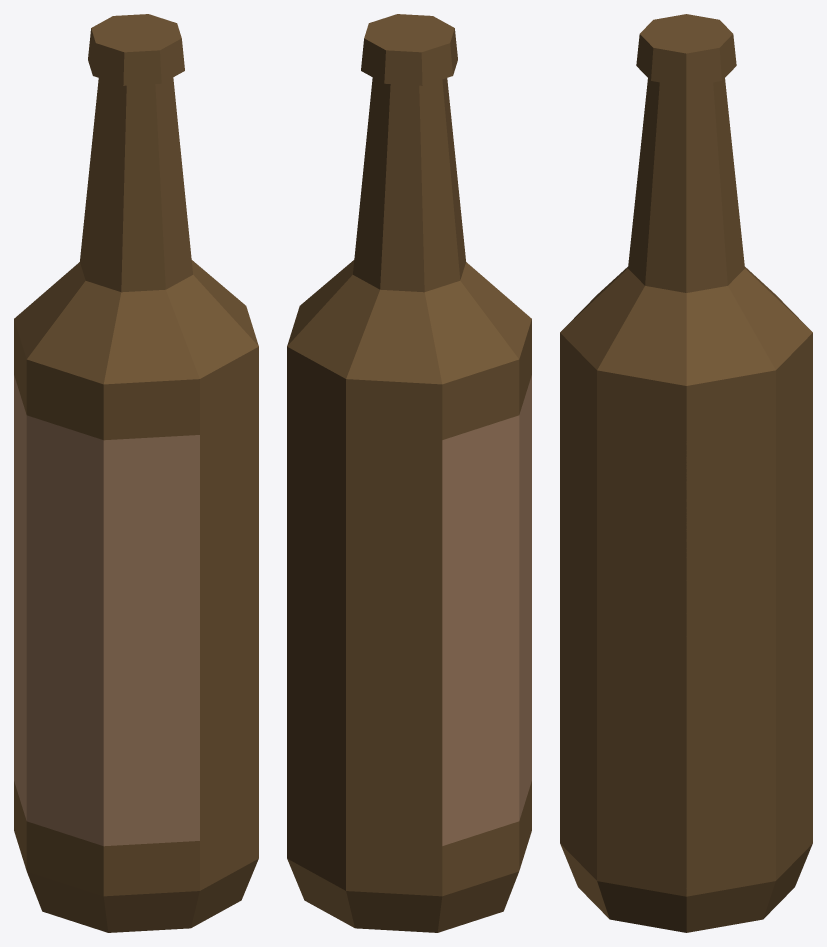
File: Bottle_1_Brown.fbx
The picture shows the model from 3 angles, left to right: view 1: azimuth 30°, elevation 25°; view 2: azimuth 150°, elevation 25°; view 3: azimuth 270°, elevation 25°; orthographic projection.
Visible parts, largest first — view 1: Bottle_1_Brown_Part_1, Bottle_1_Brown_Part_2; view 2: Bottle_1_Brown_Part_1, Bottle_1_Brown_Part_2; view 3: Bottle_1_Brown_Part_1.
Part boxes in pixels (bbox=[...]): Bottle_1_Brown_Part_1: bbox=[14, 14, 258, 932]; Bottle_1_Brown_Part_2: bbox=[14, 375, 199, 846]; Bottle_1_Brown_Part_1: bbox=[287, 14, 531, 932]; Bottle_1_Brown_Part_2: bbox=[442, 375, 531, 845]; Bottle_1_Brown_Part_1: bbox=[560, 14, 812, 932].
Bounding box in the file's own units: 10.8 × 40.2 × 10.8.
